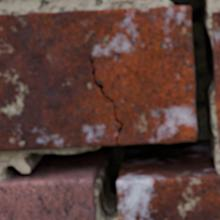brick: (0, 7, 195, 150), (118, 174, 219, 219), (0, 178, 95, 219), (213, 12, 219, 141)
crack: (2, 0, 217, 219)
